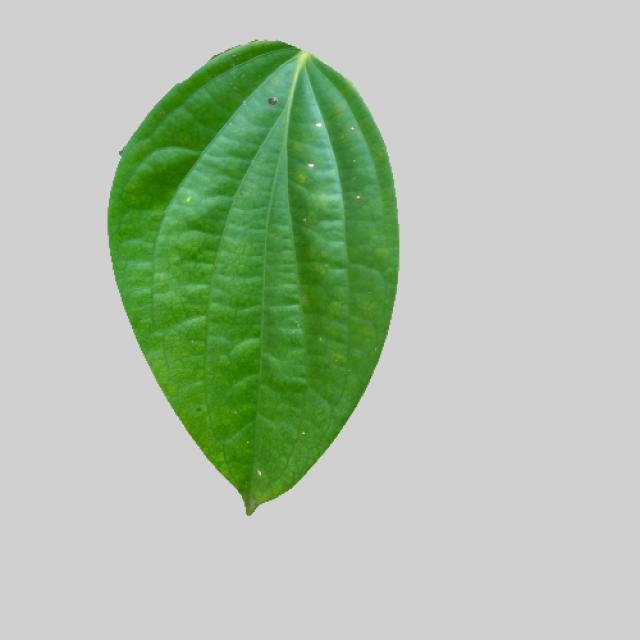healthy: (103, 41, 410, 522)
